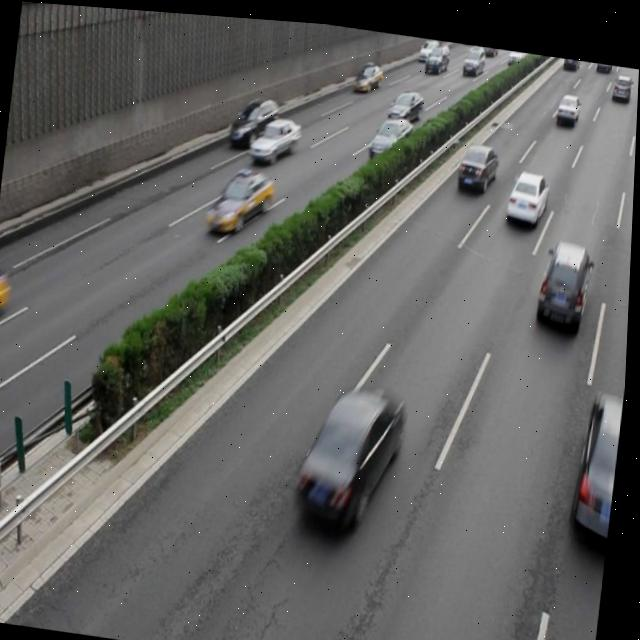car: (296, 368, 410, 539), (571, 378, 627, 546), (535, 227, 594, 323), (205, 162, 277, 235), (248, 108, 304, 162), (229, 89, 281, 147), (505, 160, 550, 216), (456, 135, 500, 187), (368, 107, 413, 154), (385, 80, 422, 115)
